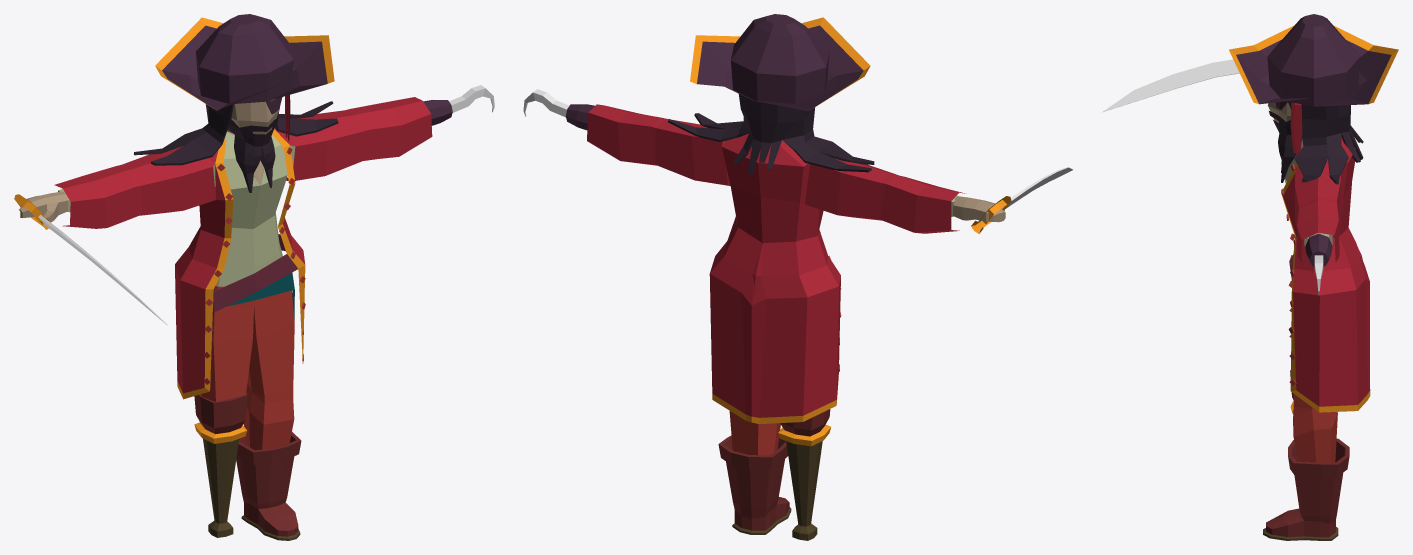
File: Pirate.glb
3 renders of one model, left to right at view 1: azimuth 30°, elevation 25°; view 2: azimuth 150°, elevation 25°; view 3: azimuth 270°, elevation 25°, orthographic.
Visible parts, largest first — view 1: Coat, Hat, Pants, Chest, Boot, Wooden_Leg, Hair, Belts, Beard, Hook_Hand, Cutlass, Head (+1 smaller); view 2: Coat, Hat, Hair, Boot, Wooden_Leg, Pants, Hook_Hand, Hand, Cutlass; view 3: Coat, Hat, Boot, Hair, Pants, Cutlass, Hook_Hand, Beard, Bandana.
Boxes of the visible parts, left/top/right/bottom form: Coat: left=54, top=97, right=432, bottom=399; Hat: left=155, top=14, right=334, bottom=110; Pants: left=200, top=285, right=294, bottom=450; Chest: left=58, top=132, right=295, bottom=286; Boot: left=236, top=432, right=301, bottom=540; Wooden_Leg: left=194, top=393, right=247, bottom=537; Hair: left=134, top=101, right=338, bottom=165; Belts: left=212, top=234, right=297, bottom=334; Beard: left=227, top=118, right=277, bottom=192; Hook_Hand: left=423, top=85, right=494, bottom=125; Cutlass: left=14, top=194, right=167, bottom=325; Head: left=227, top=99, right=279, bottom=134; Coat: left=587, top=104, right=966, bottom=423; Hat: left=690, top=14, right=870, bottom=111; Hair: left=668, top=94, right=874, bottom=174; Boot: left=718, top=435, right=791, bottom=534; Wooden_Leg: left=778, top=409, right=830, bottom=540; Pants: left=729, top=411, right=780, bottom=455; Hook_Hand: left=523, top=89, right=594, bottom=130; Hand: left=953, top=196, right=1005, bottom=222; Cutlass: left=971, top=167, right=1072, bottom=233; Coat: left=1281, top=137, right=1370, bottom=412; Hat: left=1229, top=14, right=1398, bottom=106; Boot: left=1263, top=438, right=1349, bottom=540; Hair: left=1288, top=101, right=1363, bottom=184; Pants: left=1293, top=394, right=1337, bottom=462; Cutlass: left=1102, top=59, right=1239, bottom=112; Hook_Hand: left=1305, top=233, right=1332, bottom=295; Beard: left=1269, top=111, right=1302, bottom=182; Bandana: left=1290, top=102, right=1302, bottom=155.
Size of the model in its own units: 15.84 by 16.15 by 8.66.
